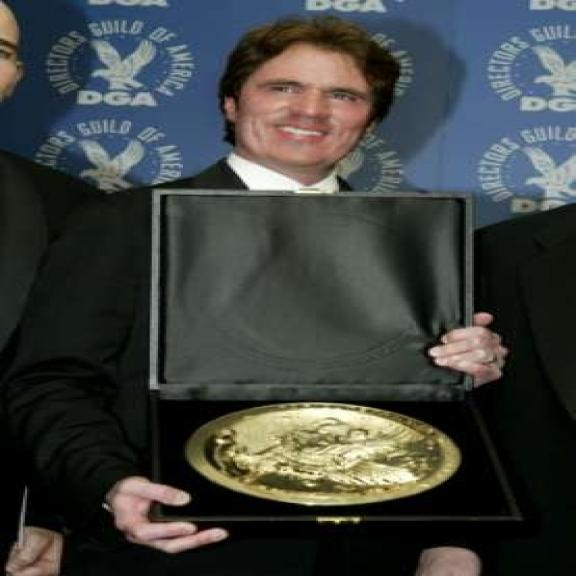face: (218, 39, 386, 174)
